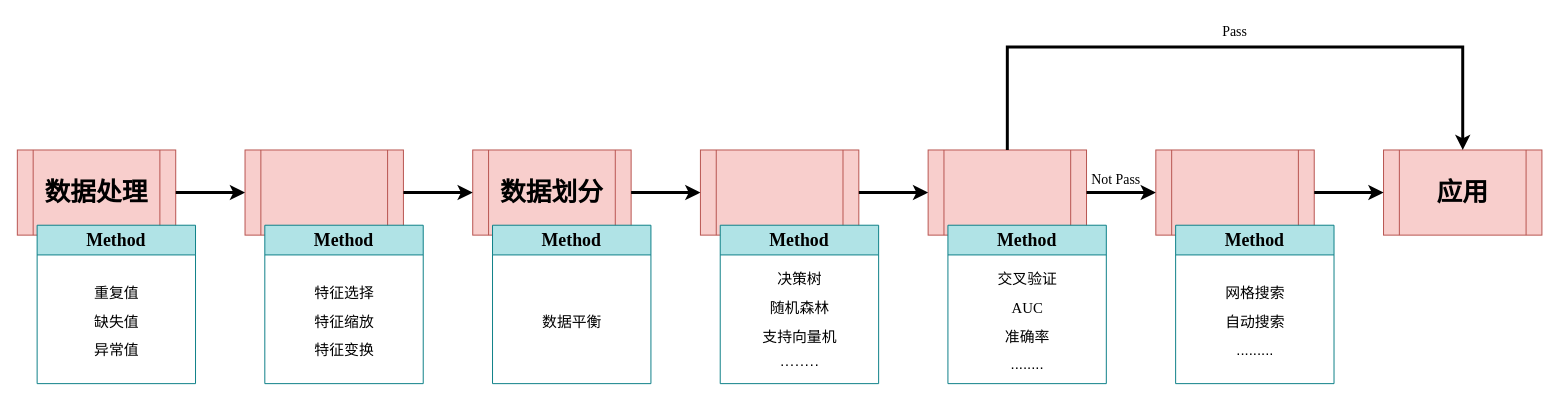
This 1559x401 diagram has some shape labels left out. Each missing label, with the centre of its shape:
"模型训练" belongs at [779,192].
"模型评估" belongs at [1007,192].
"模型调优" belongs at [1234,192].
"特征工程" belongs at [323,192].
